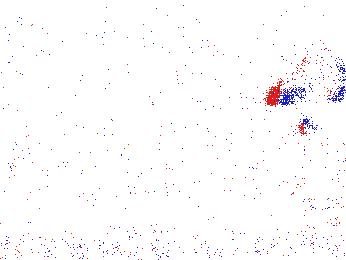flame jellyfish: (269, 52, 346, 108), (289, 116, 346, 179), (288, 175, 344, 230)
